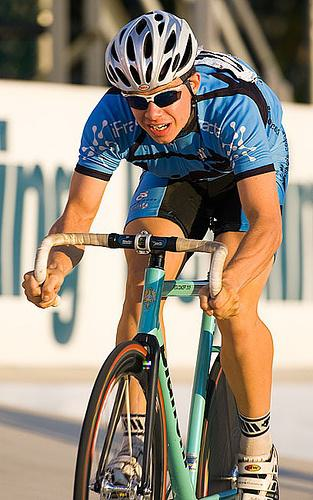car: (31, 231, 263, 500)
person: (18, 11, 293, 500)
